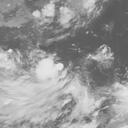cyclone: (34, 57, 72, 97)
